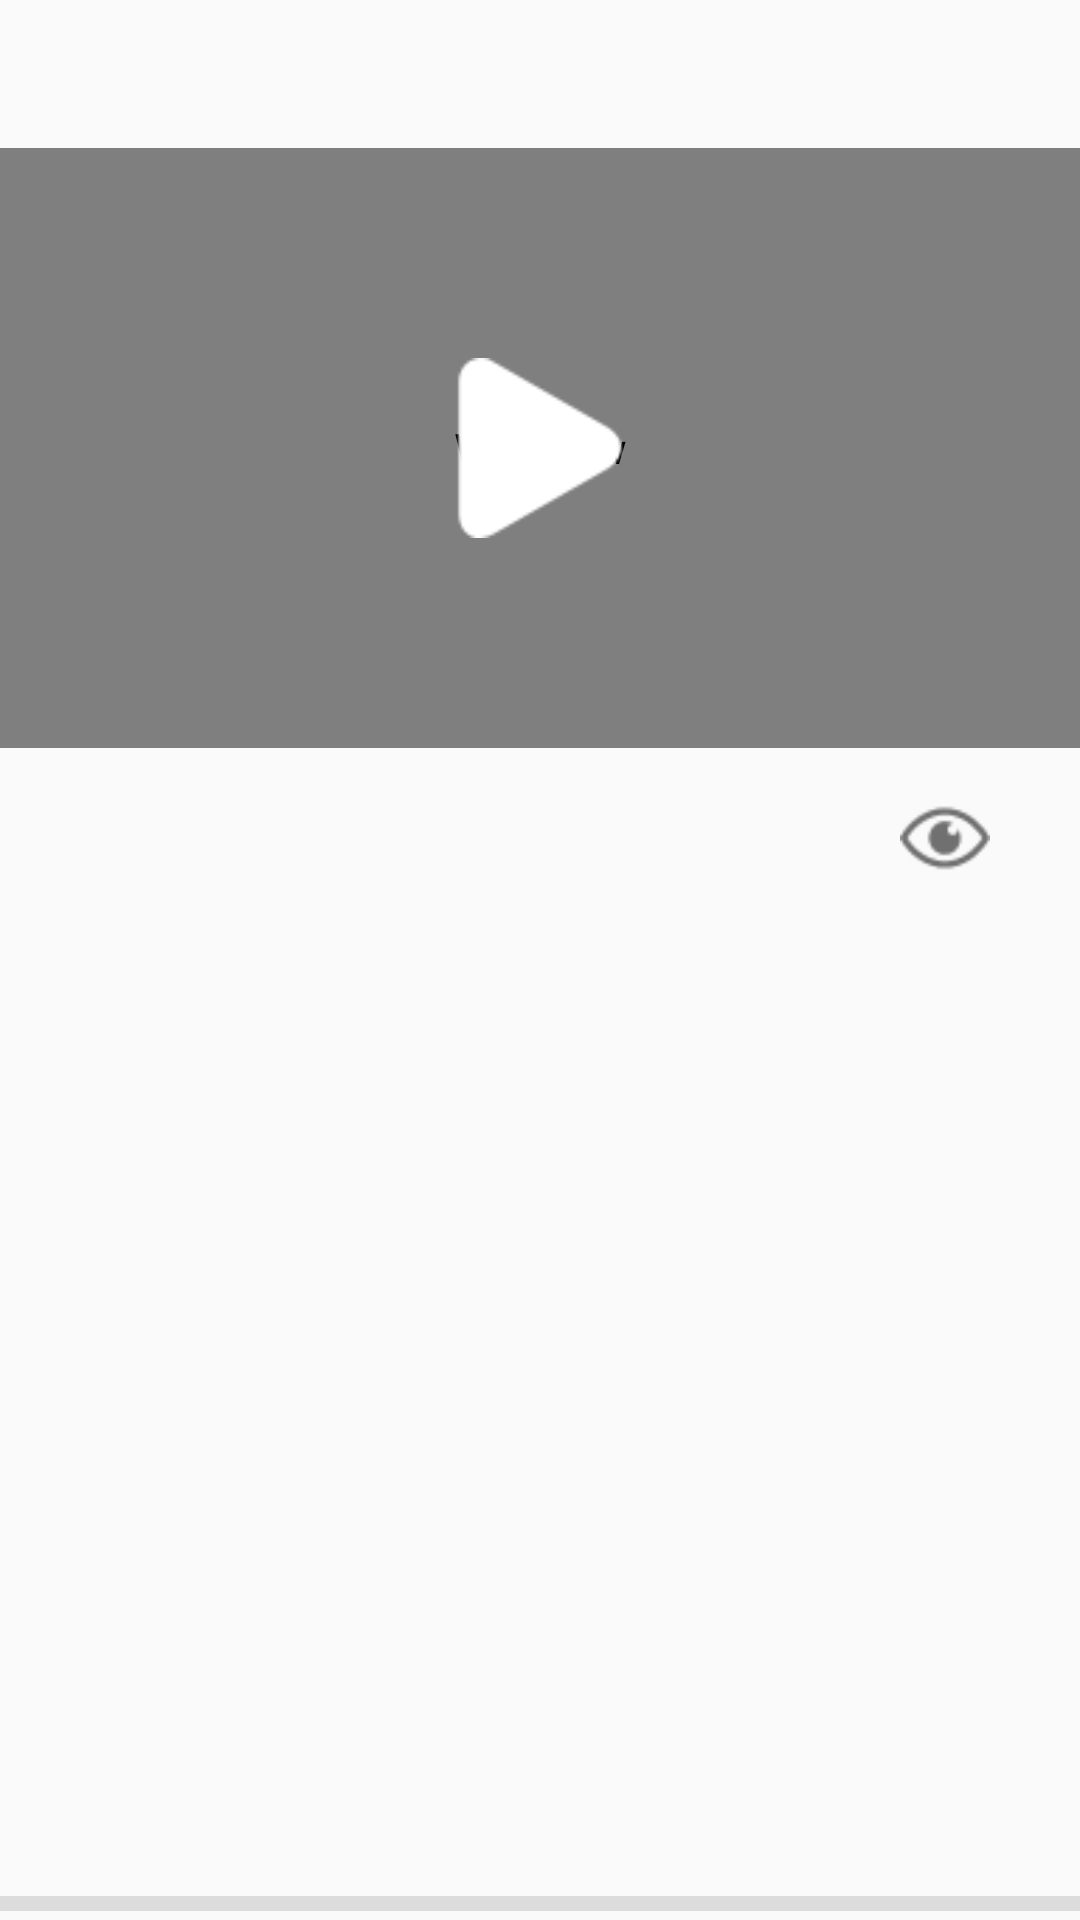

Where to tap for icons on this 1080x1920 app screen, as point (x, y):
play: point (540, 448)
playcount: point (945, 838)
